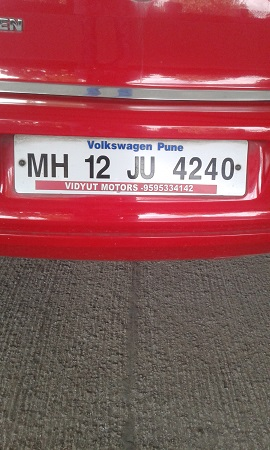licenseplate: (12, 129, 253, 202)
